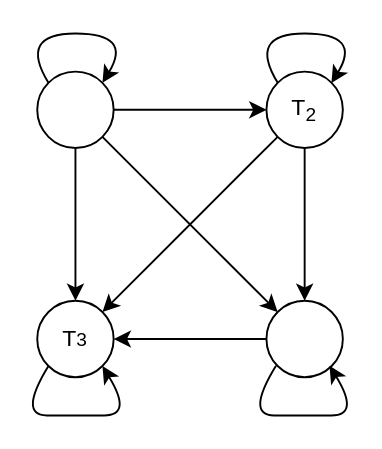
The diagram is 382 pixels wide and 449 high, and some of its shapes have lost their labels. The box of each missing label's shape, as (x1, y1, x2, y2) in pixels:
T 1: (35, 70, 114, 148)
T 4: (265, 299, 343, 377)
